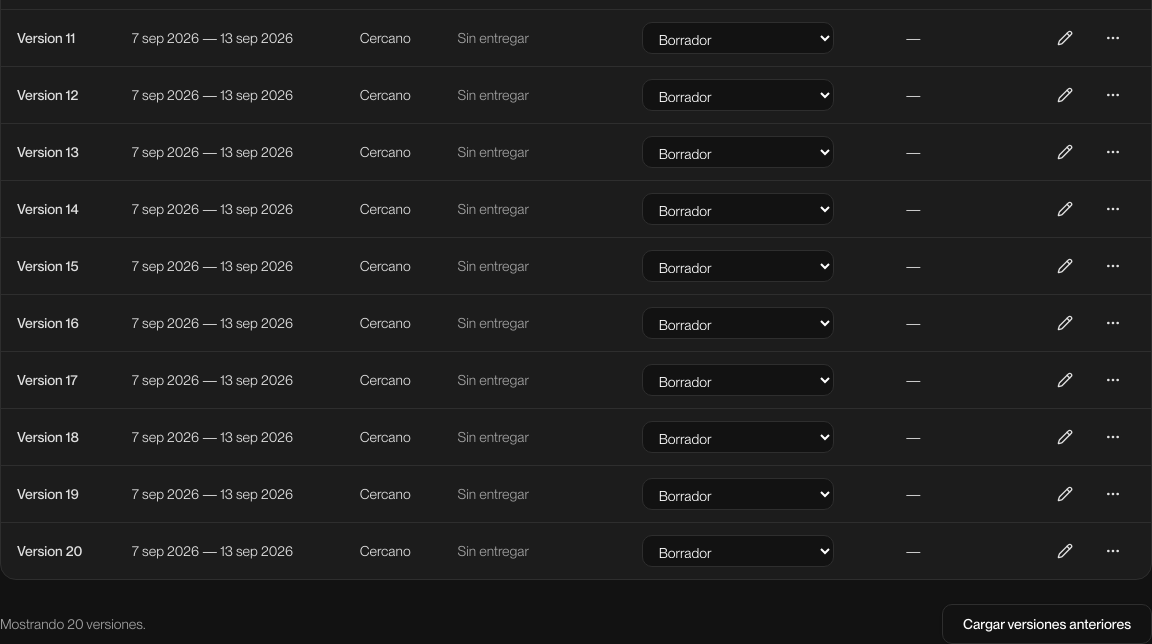
it: loads beyond 20 versions without duplicate rows and resets pagination when filters change
(page scrolled)
Click the button "Cargar versiones anteriores".
click(1047, 624)  # box [942,604,1151,643]
(page scrolled)
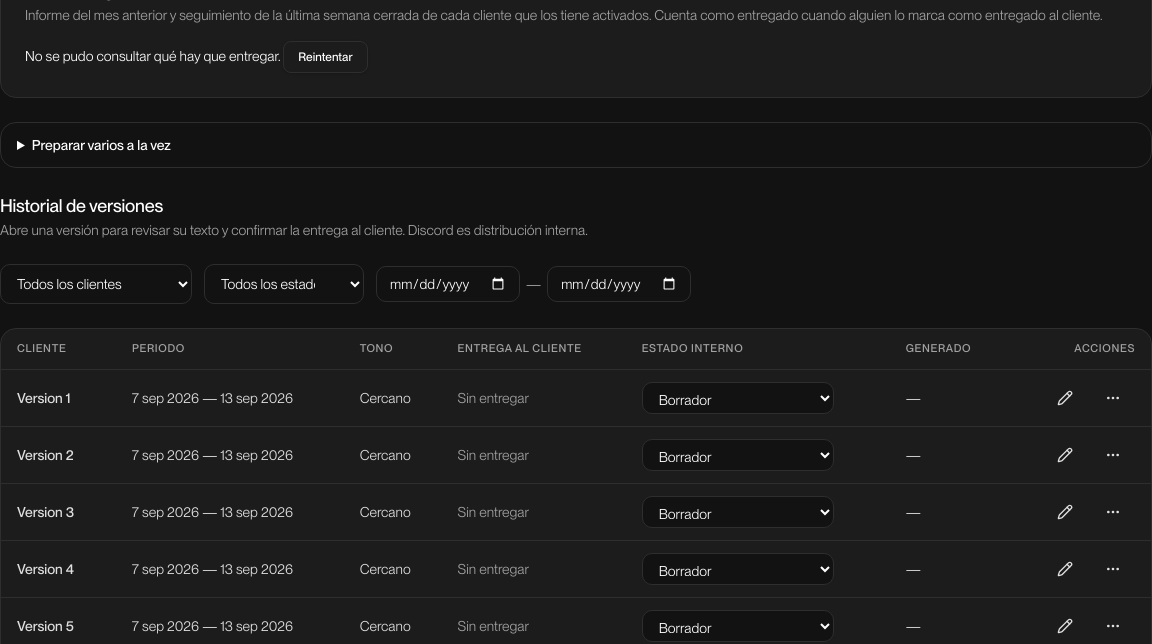
Select "Revisado" in the dropdown named "Filtrar por estado" at (284, 284), box [204,264,364,304]
(page scrolled)
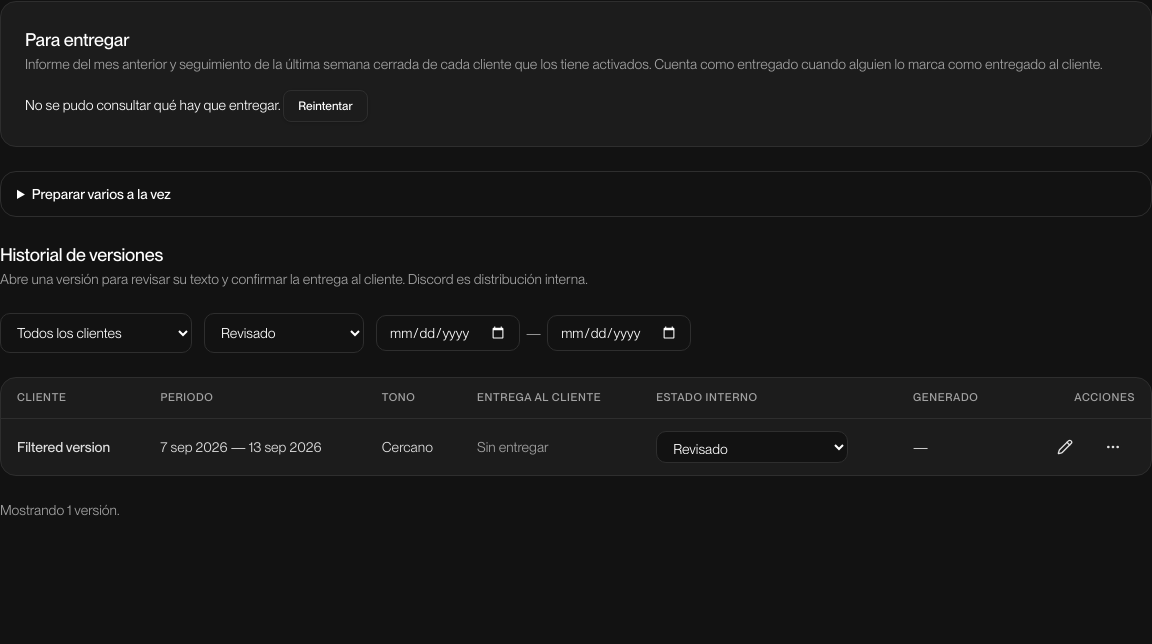
Check: the text "Filtered version" is shown, box [1,418,144,474]
Check: the text "Mostrando 1 versión." is shown, box [0,500,120,520]
